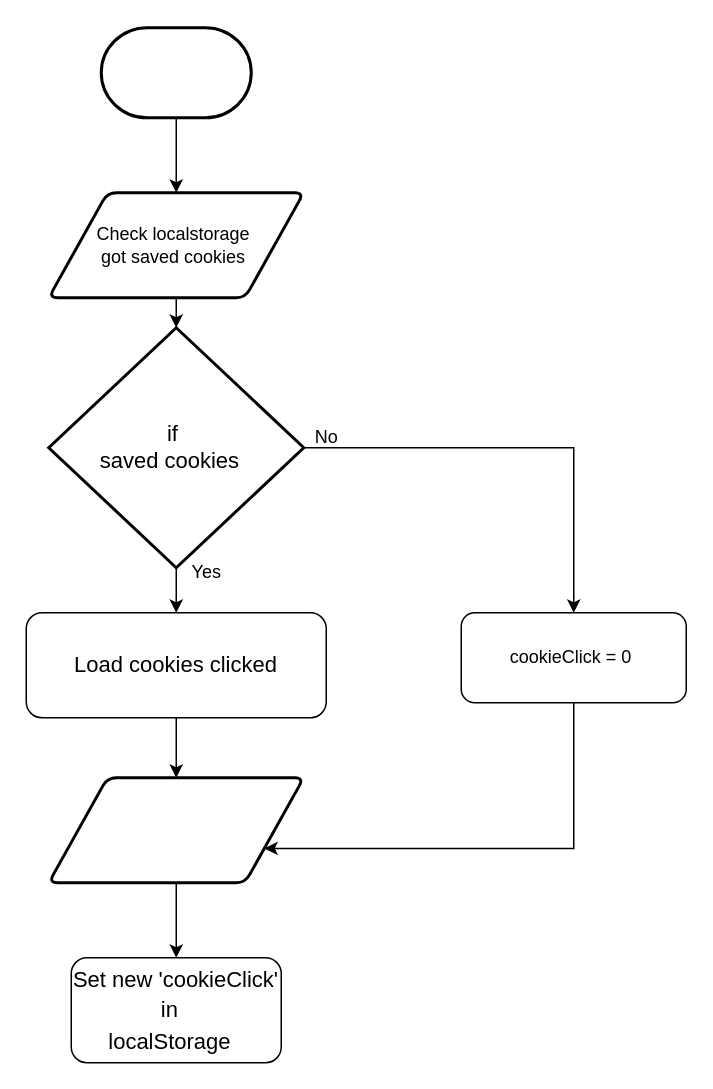
The diagram is 713 pixels wide and 1089 high, and some of its shapes have lost their labels. Each missing label, with the box of its shape:
Continue clicking Cookie increment by 1: (46, 776, 304, 884)
Start: (99, 26, 252, 118)
